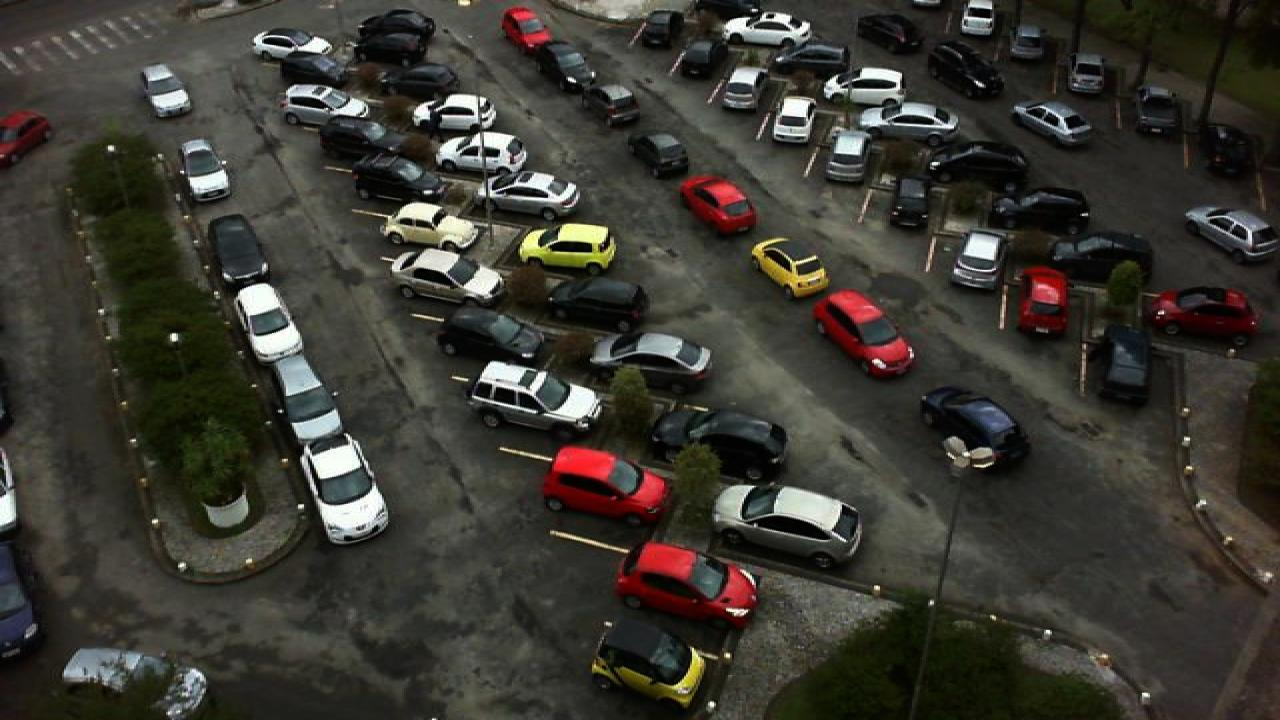Car: (710, 480, 864, 570), (610, 541, 760, 630), (588, 619, 708, 719), (538, 444, 676, 529), (466, 359, 608, 441), (652, 403, 792, 486), (58, 647, 208, 720), (916, 384, 1032, 474), (296, 440, 390, 547), (810, 288, 918, 379), (586, 331, 716, 396), (434, 305, 548, 368), (270, 359, 348, 449), (1140, 285, 1260, 341), (388, 249, 500, 307), (1048, 229, 1158, 287), (232, 280, 306, 365), (1182, 204, 1280, 266), (546, 277, 652, 334), (514, 220, 618, 278), (0, 540, 44, 665), (676, 173, 760, 238), (380, 202, 482, 254), (986, 186, 1096, 234), (748, 235, 830, 299), (1096, 323, 1156, 407), (920, 140, 1034, 184), (926, 40, 1006, 102), (432, 129, 530, 178), (480, 171, 582, 218), (352, 152, 448, 201), (204, 214, 268, 284), (862, 100, 960, 144), (278, 82, 372, 127), (1016, 264, 1072, 338), (1010, 102, 1096, 148), (412, 91, 498, 136), (824, 64, 908, 109), (176, 137, 232, 204), (950, 228, 1008, 292), (314, 116, 398, 160), (718, 12, 814, 48), (374, 60, 460, 100), (1196, 123, 1256, 180), (770, 39, 854, 79), (536, 40, 598, 94), (0, 110, 54, 169), (276, 44, 350, 85), (852, 11, 920, 55), (140, 63, 194, 118), (822, 128, 874, 184), (628, 132, 690, 178), (884, 174, 934, 230), (582, 82, 642, 128), (248, 27, 328, 61), (354, 29, 428, 65), (766, 95, 818, 145), (500, 6, 558, 50), (1132, 86, 1180, 136), (354, 8, 436, 36), (714, 66, 762, 112), (672, 36, 724, 78), (634, 8, 684, 48), (1064, 50, 1106, 96), (956, 0, 998, 37), (1008, 24, 1046, 60)
